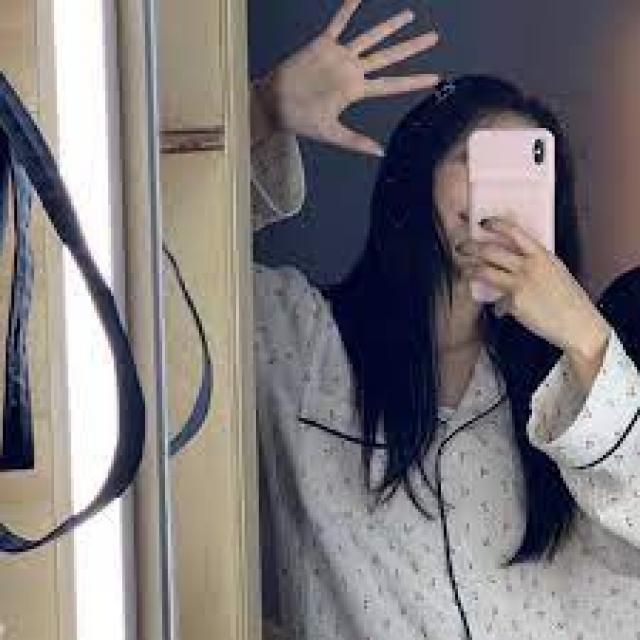Phone: (465, 128, 558, 302)
